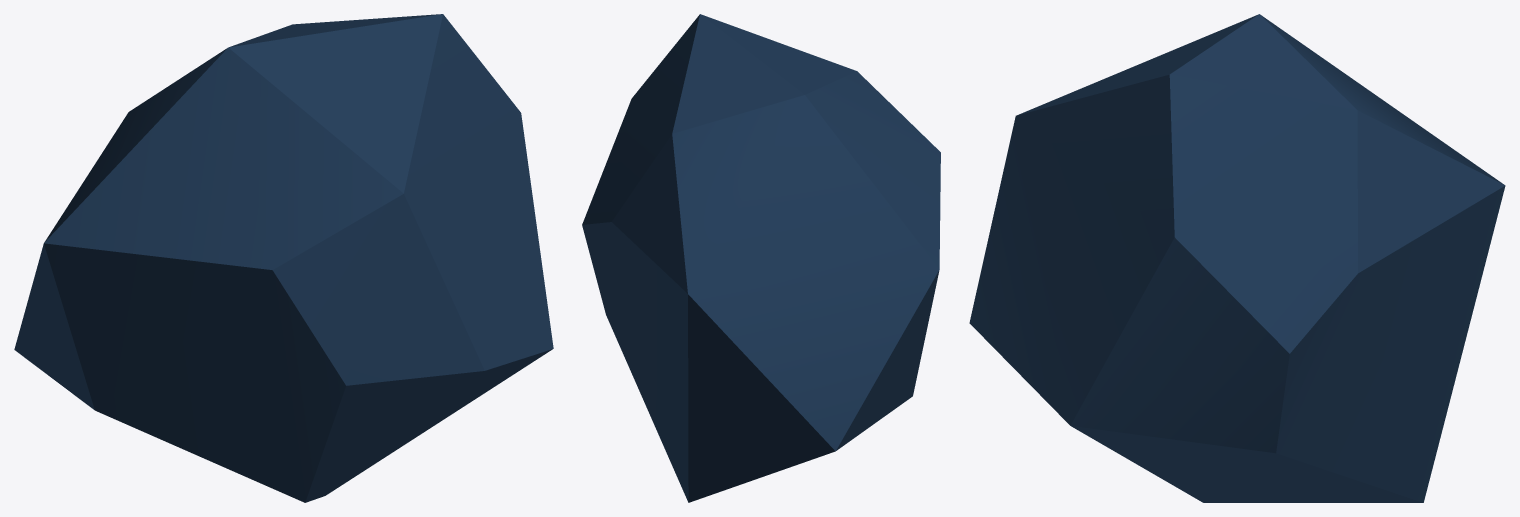
Rendered from 39091_stone_01.fbx.
3 views of the same model, side by side, from view 1: azimuth 30°, elevation 25°; view 2: azimuth 150°, elevation 25°; view 3: azimuth 270°, elevation 25° (orthographic). The views are drawn at different scales.
Parts seen in each view (by area): view 1: 39091_stone_01; view 2: 39091_stone_01; view 3: 39091_stone_01.
Part boxes in pixels (box(x1,y1,x2,y2)): 39091_stone_01: box(14, 14, 553, 502); 39091_stone_01: box(582, 14, 940, 502); 39091_stone_01: box(969, 14, 1505, 502).
Bounding box in the file's own units: 3.36 × 3.54 × 3.56.
